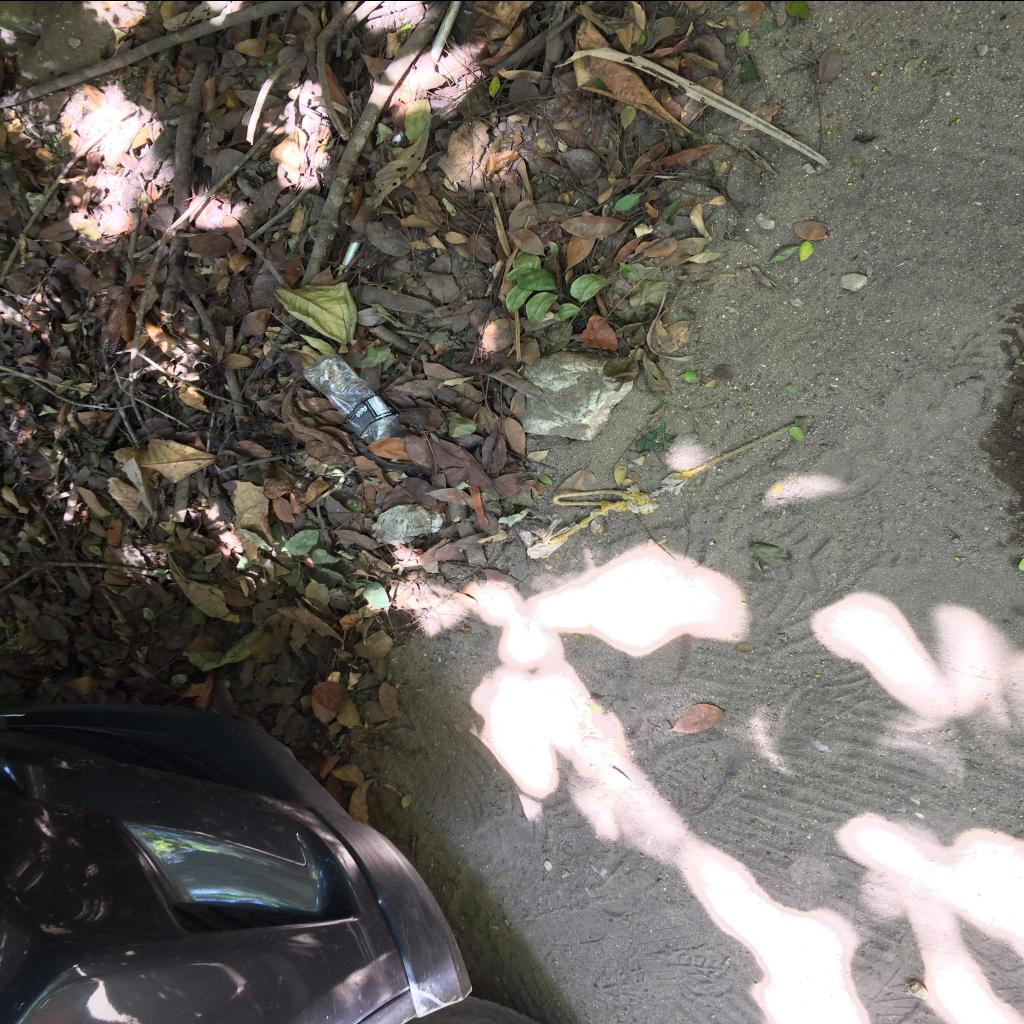Clear plastic bottle: (302, 352, 400, 444)
Rope - strings: (528, 422, 796, 557)
